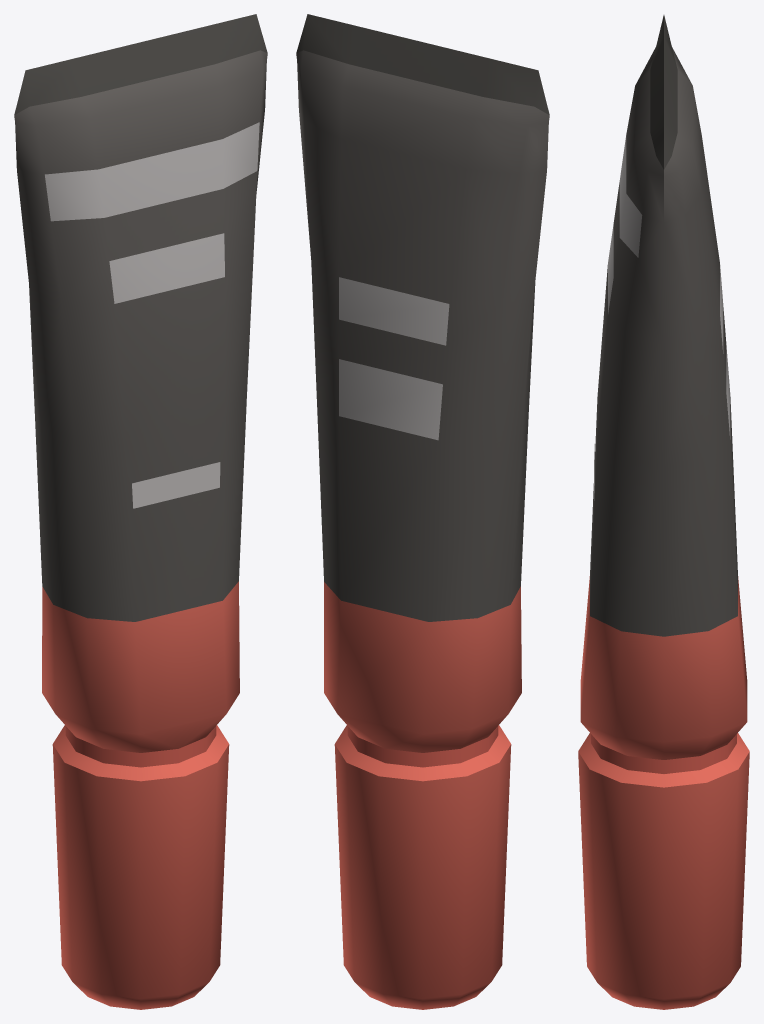
Rendered from Highlighter.fbx.
The picture shows the model from 3 angles, left to right: view 1: azimuth 30°, elevation 25°; view 2: azimuth 150°, elevation 25°; view 3: azimuth 270°, elevation 25°; orthographic projection. The views are drawn at different scales.
Visible parts, largest first — view 1: Highlighter; view 2: Highlighter; view 3: Highlighter.
Boxes of the visible parts, x1,y1,x2,y2 form: Highlighter: [14, 14, 267, 1009]; Highlighter: [296, 14, 549, 1009]; Highlighter: [578, 15, 749, 1009].
Bounding box in the file's own units: 1.07 × 3.78 × 0.6421.
